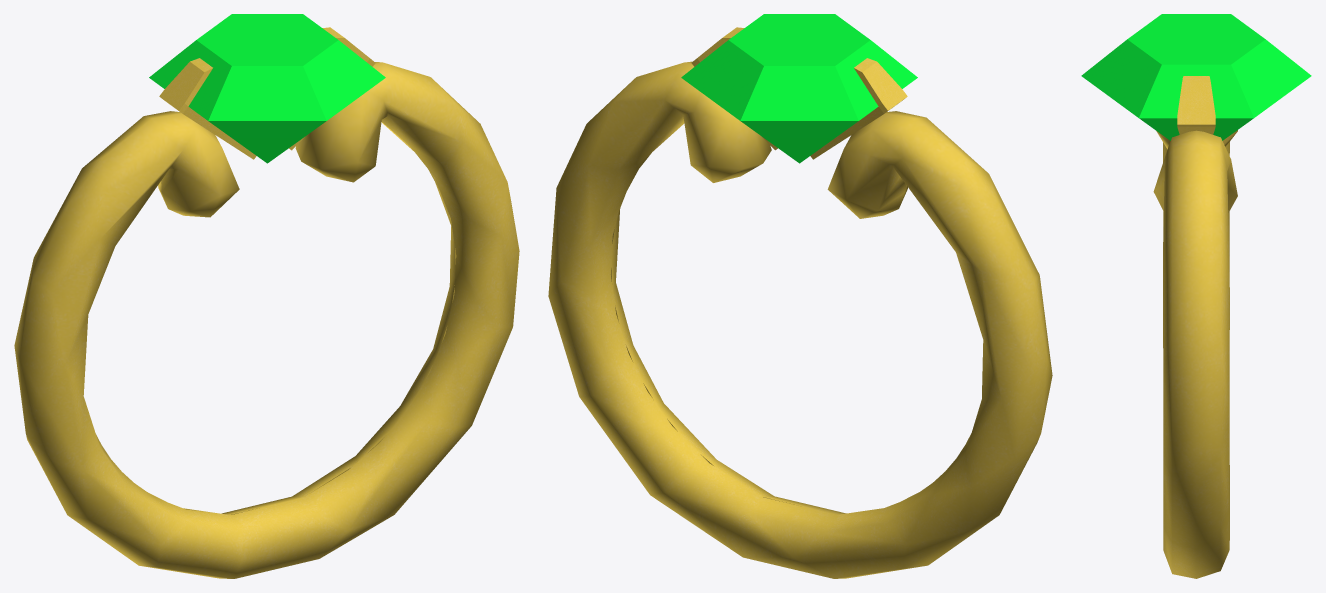
File: klonoa.glb
3 renders of one model, left to right at view 1: azimuth 30°, elevation 25°; view 2: azimuth 150°, elevation 25°; view 3: azimuth 270°, elevation 25°, orthographic. The views are drawn at different scales.
Visible parts, largest first — view 1: klonoa; view 2: klonoa; view 3: klonoa.
Part boxes in pixels (left/top/right/bottom): klonoa: left=14, top=14, right=519, bottom=578; klonoa: left=548, top=14, right=1052, bottom=578; klonoa: left=1081, top=14, right=1311, bottom=578.
Size of the model in its own units: 8.8 by 8.95 by 3.65.
Materials: 1 (1 with a texture image).
